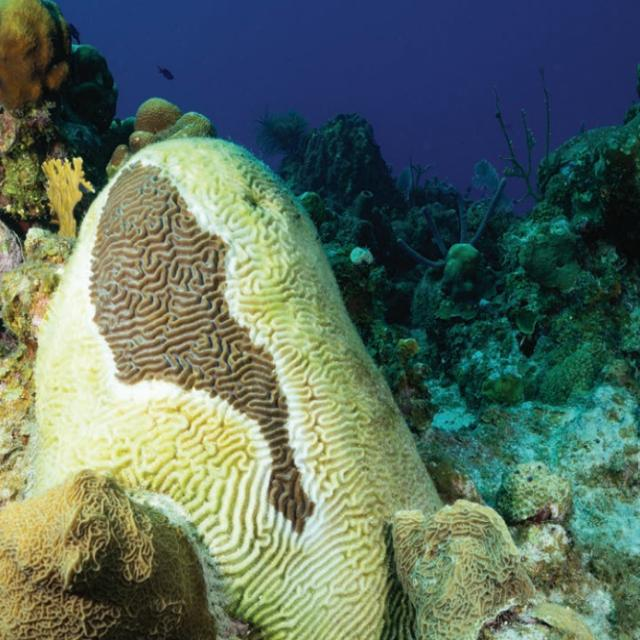Coral: (24, 135, 446, 640), (0, 470, 243, 640), (390, 497, 536, 640), (128, 97, 219, 154), (106, 144, 134, 183)
